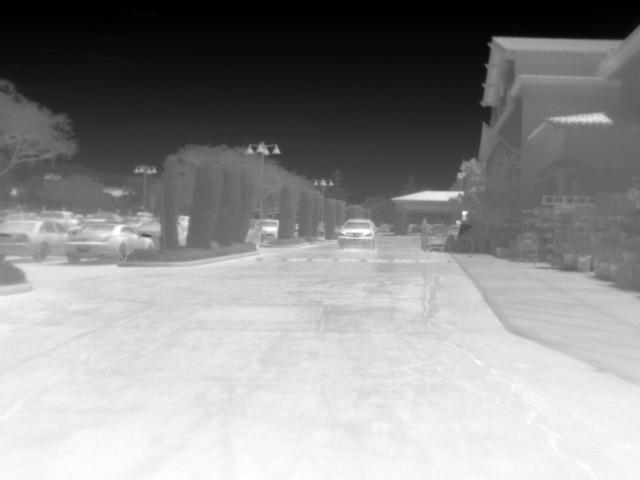car: (63, 220, 155, 262), (0, 218, 68, 262), (132, 220, 188, 246), (336, 218, 373, 250), (258, 219, 280, 245), (245, 218, 265, 244), (446, 223, 459, 237), (377, 222, 390, 234), (410, 225, 420, 235)
person: (419, 219, 431, 254)
